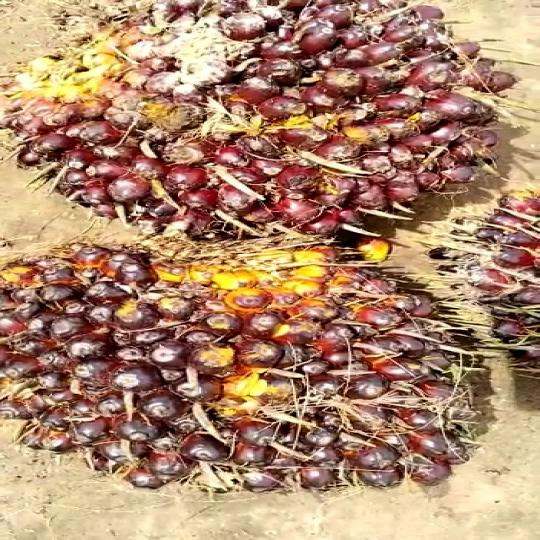kurang masak: (0, 234, 497, 499), (0, 0, 485, 248)
